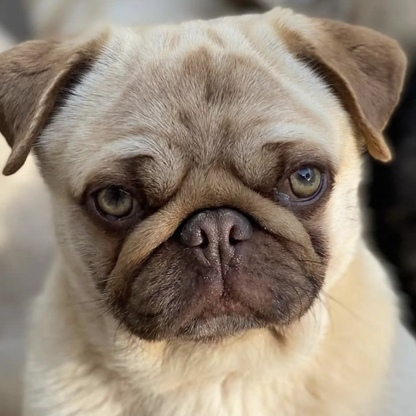Pug: (1, 1, 416, 416)
